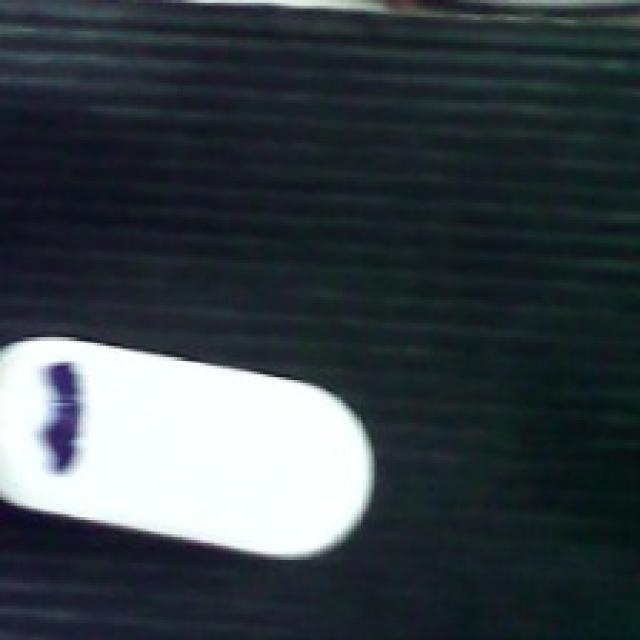defected: (0, 331, 380, 563)
